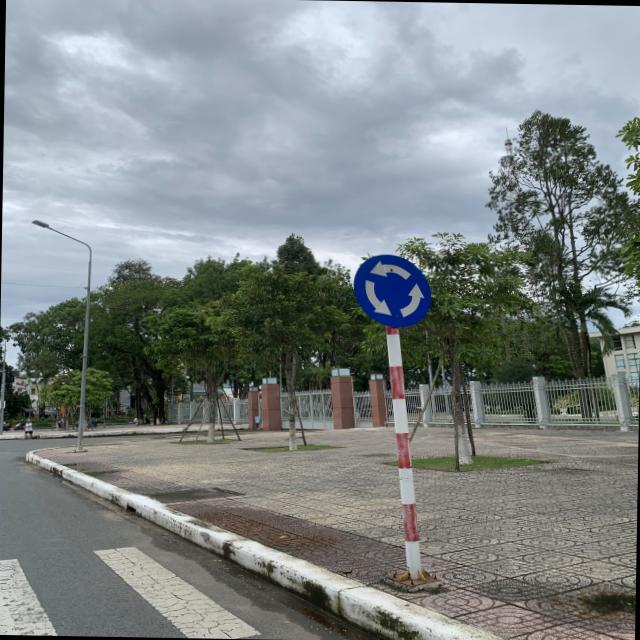Xe_Bus: (354, 253, 429, 326)
